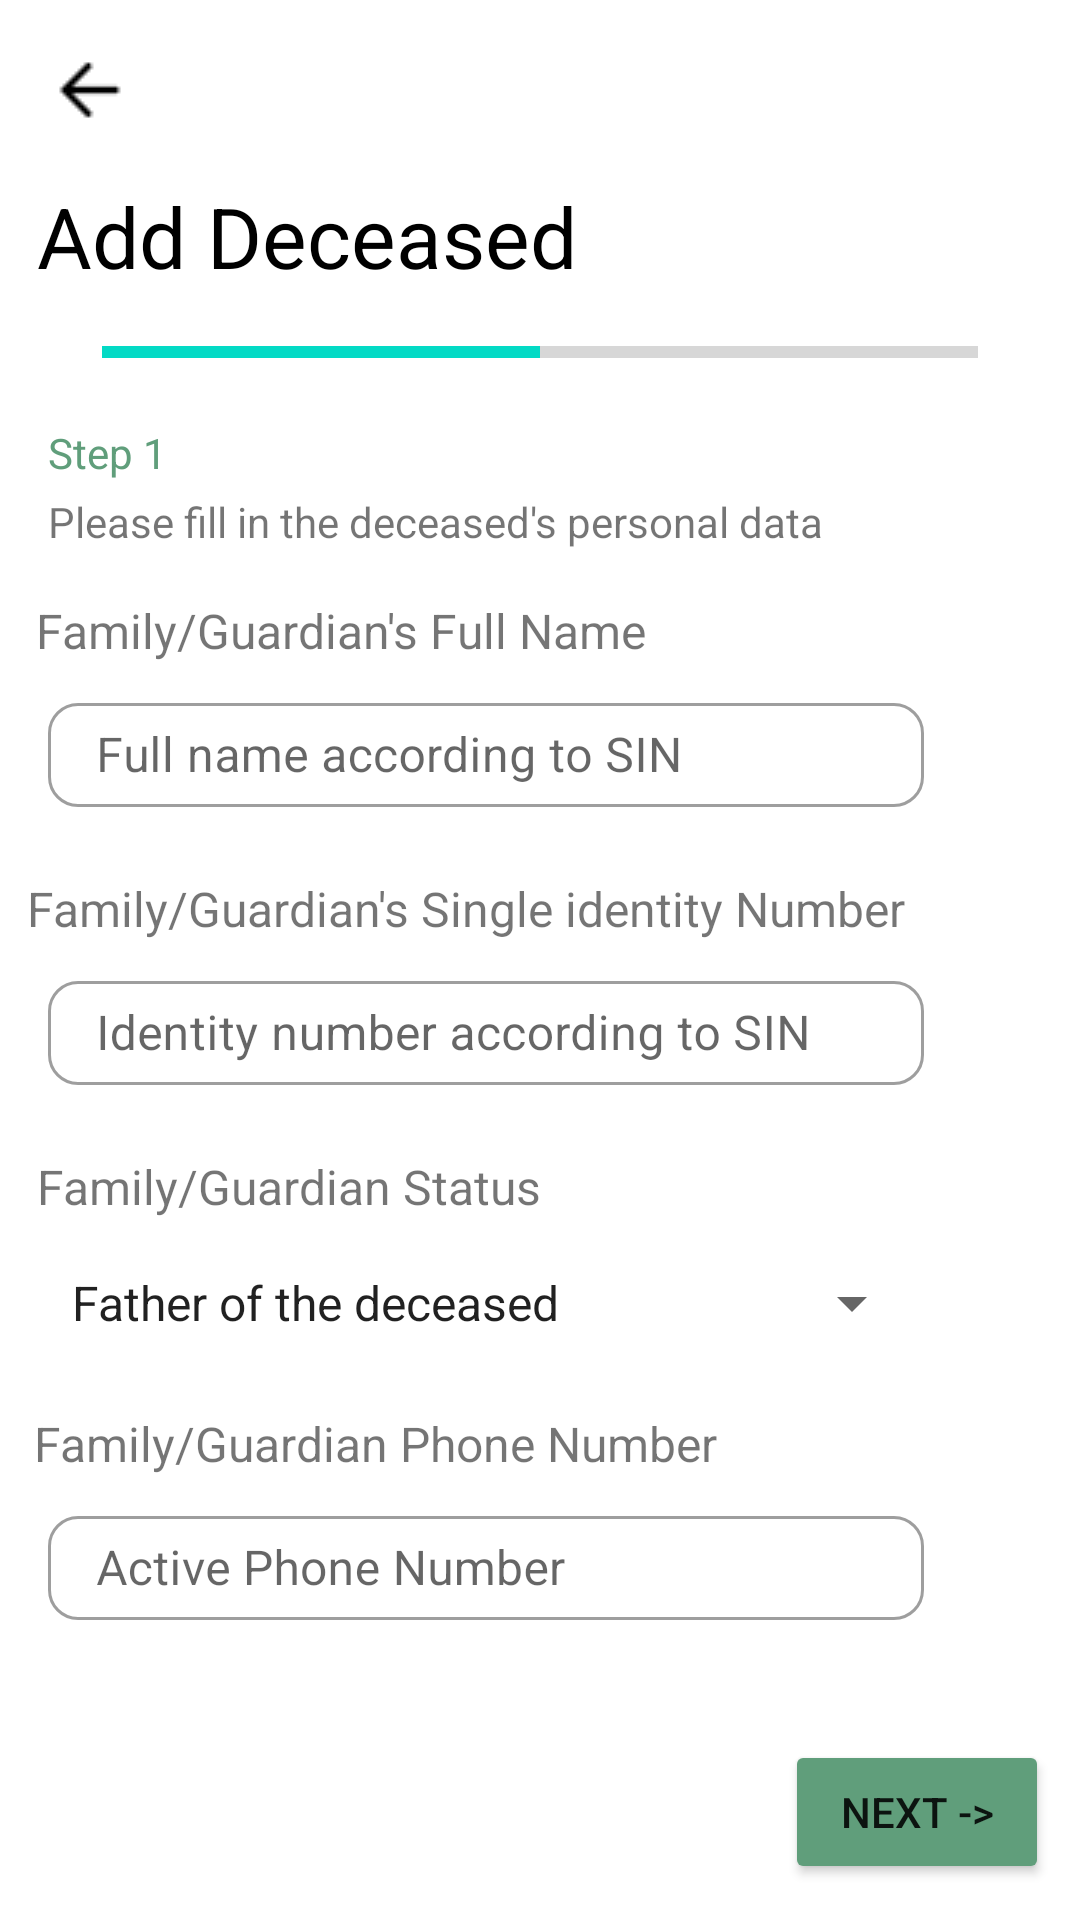

Named icons in this screenshot (1080*1920) and their bounding boxes, (x1, y1, x2, y2):
back: (59, 62, 121, 118)
